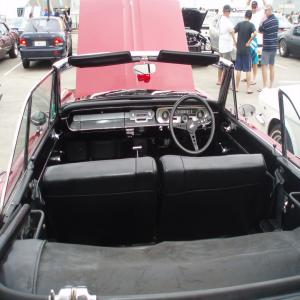Vehicle-registration-plate: (36, 42, 47, 48)
